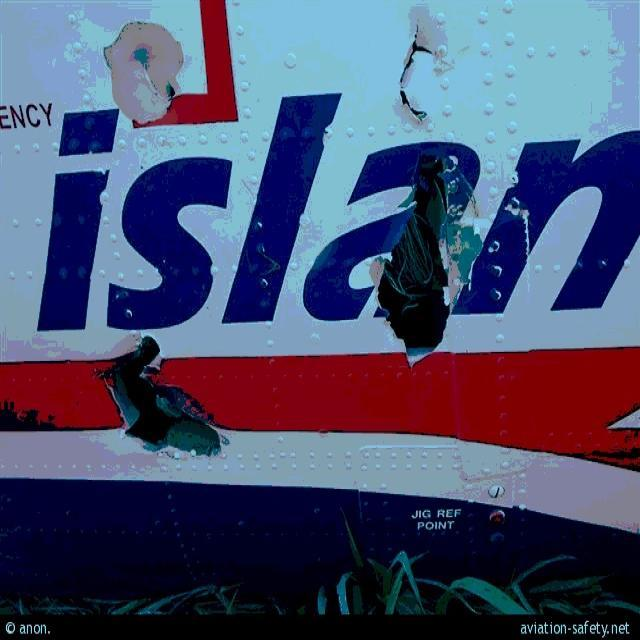crack: (373, 150, 457, 374), (108, 334, 232, 461), (396, 16, 440, 129), (160, 78, 183, 117)
